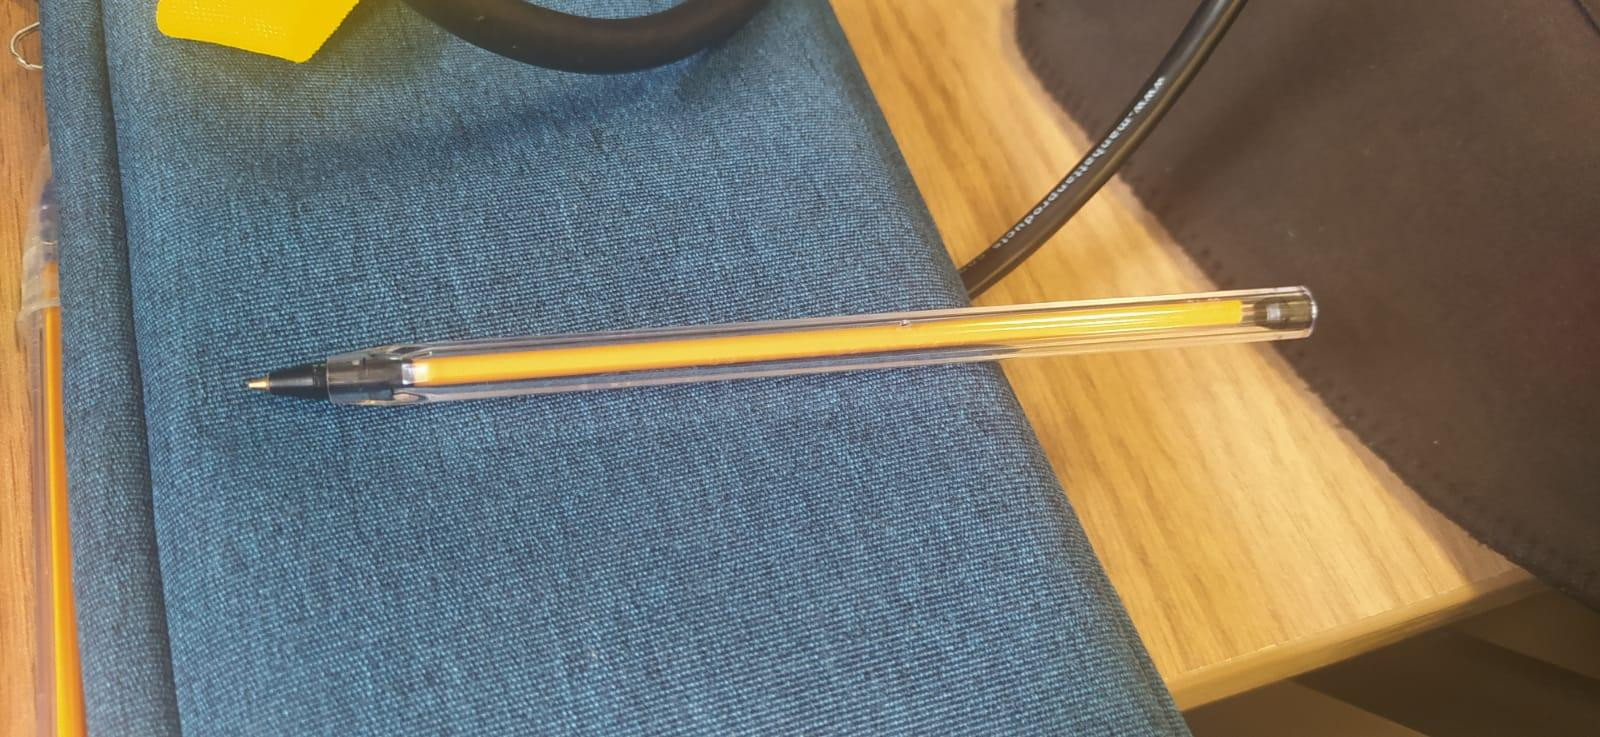pen: (235, 278, 1322, 413)
